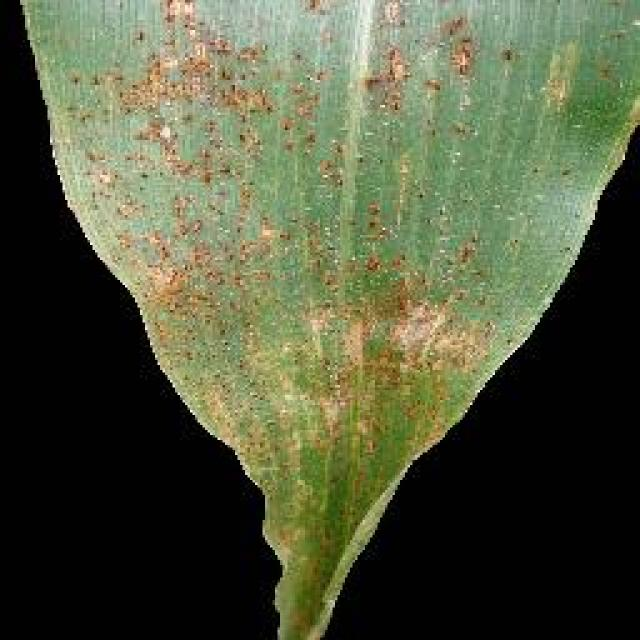Corn Common Rust: (105, 15, 573, 573)
